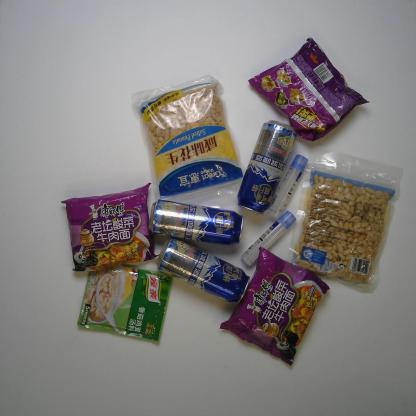Alcohol: (154, 238, 252, 306), (236, 116, 300, 218), (144, 193, 249, 249)
Dried Fruit: (289, 146, 408, 293), (127, 69, 251, 207)
Instant Noodles: (217, 244, 332, 368), (245, 35, 370, 146), (58, 178, 162, 275)
Seasoner: (75, 257, 175, 348)
Stationery: (239, 207, 301, 271), (266, 152, 309, 218)
